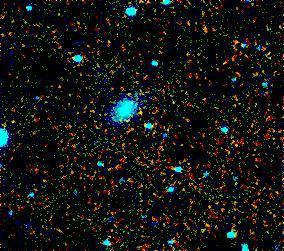star: (125, 99, 155, 129)
